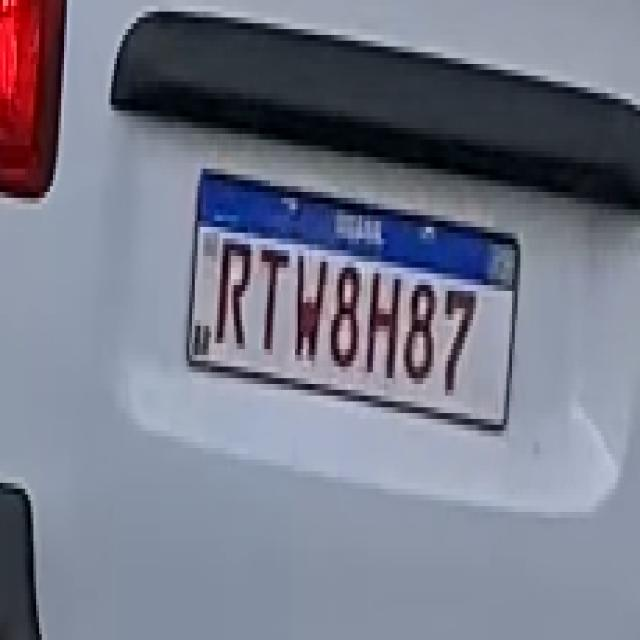Placa_mercosul_carro: (180, 167, 517, 425)
